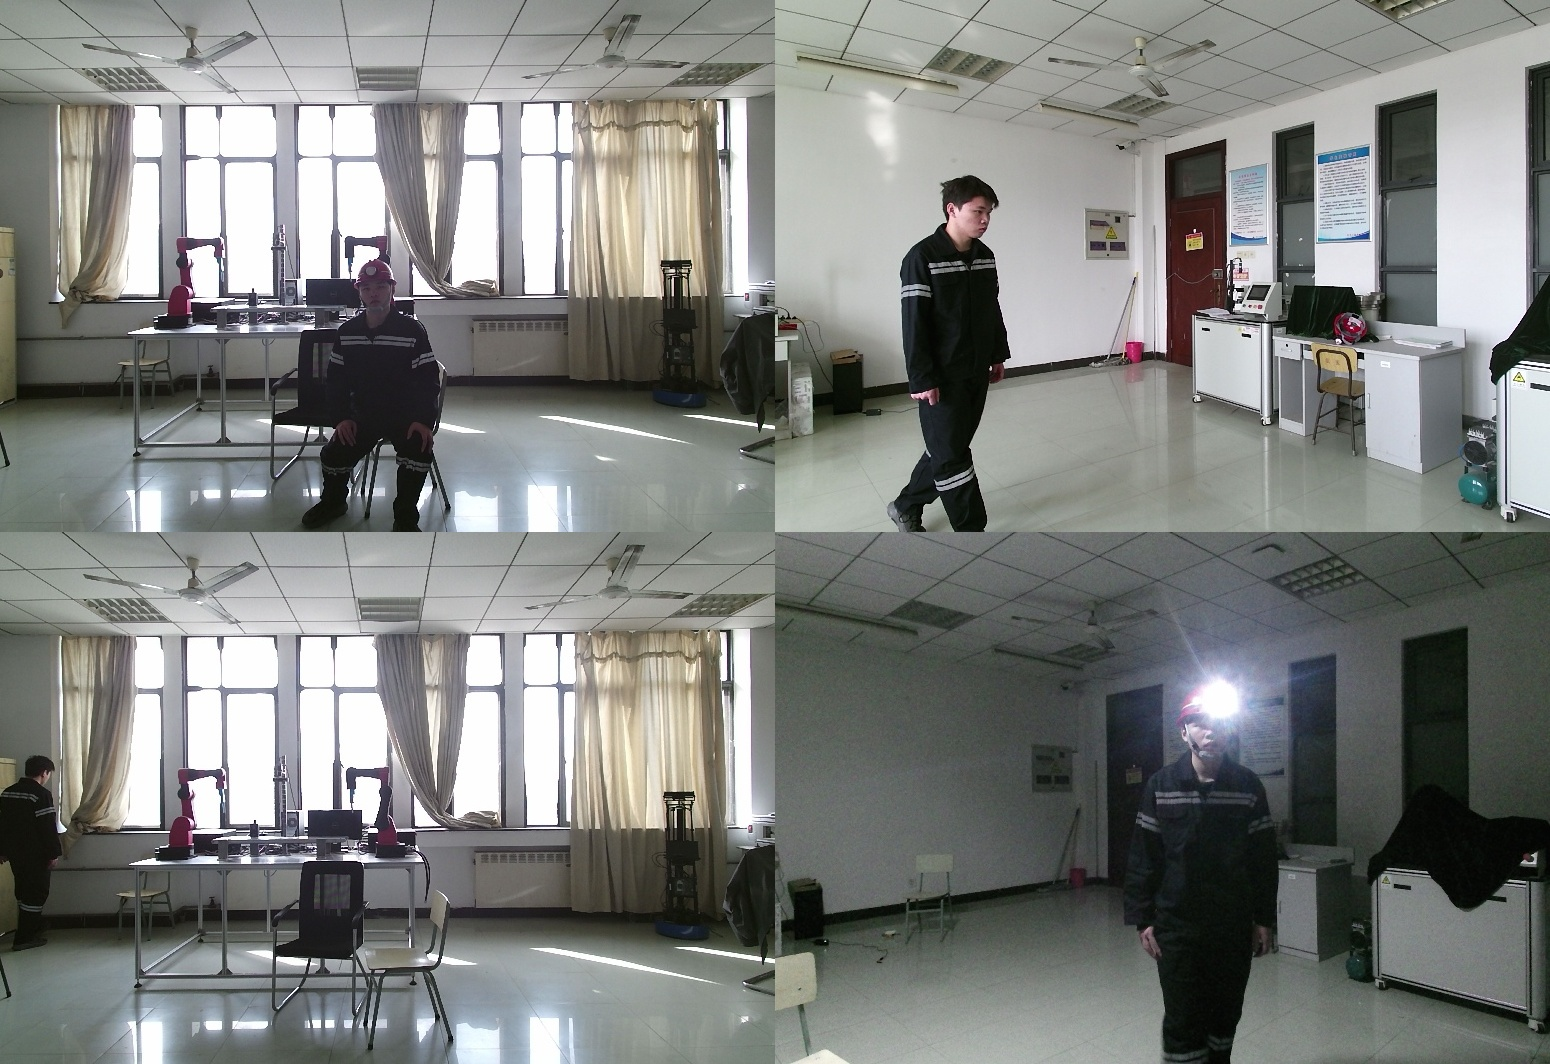person: (1132, 681, 1293, 1064), (885, 175, 1016, 532), (308, 260, 455, 532), (1, 756, 68, 949)
